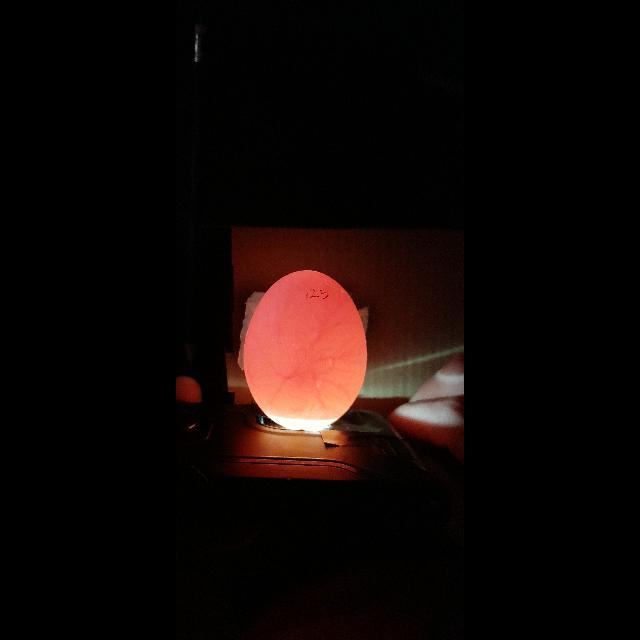Fertile: (242, 269, 368, 435)
